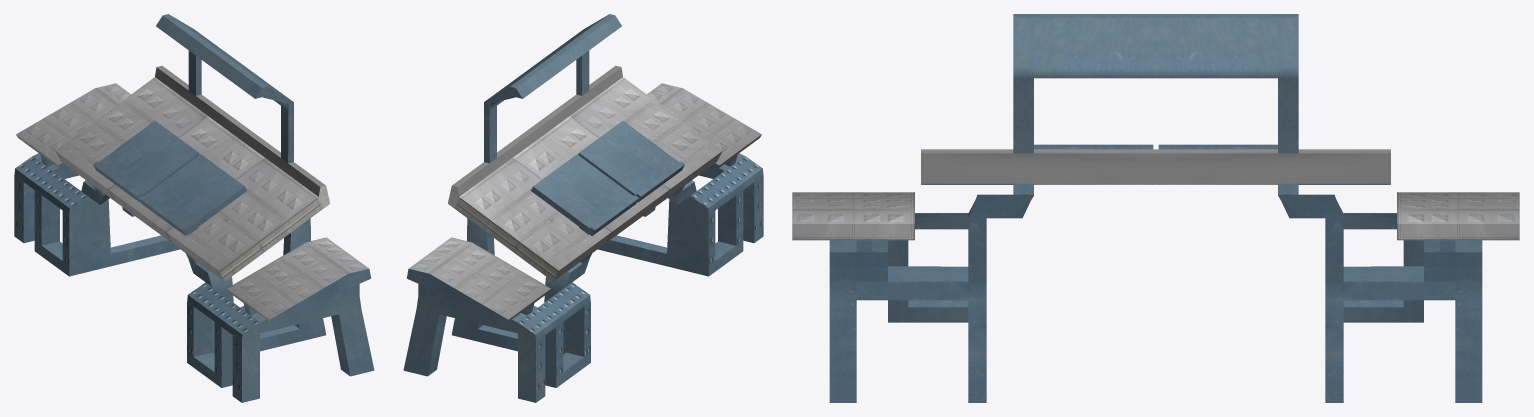
Rendered from desk.fbx.
3 views of the same model, side by side, from view 1: azimuth 30°, elevation 25°; view 2: azimuth 150°, elevation 25°; view 3: azimuth 270°, elevation 25° (orthographic). The views are drawn at different scales.
Visible parts, largest first — view 1: ISAResistanceDeskStraight; view 2: ISAResistanceDeskStraight; view 3: ISAResistanceDeskStraight.
Part boxes in pixels (x1,y1,x2,y2): ISAResistanceDeskStraight: (14, 14, 374, 402); ISAResistanceDeskStraight: (403, 14, 763, 402); ISAResistanceDeskStraight: (792, 14, 1519, 402).
Size of the model in its own units: 77.93 by 139 by 258.
Materials: 1 (1 with a texture image).
